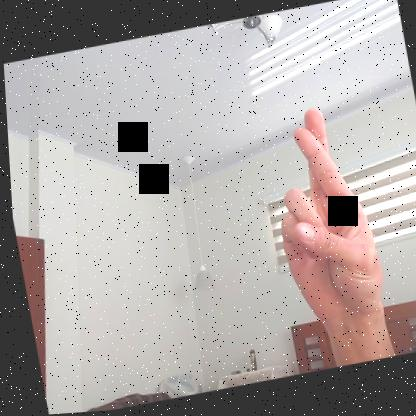R: (254, 102, 386, 341)
